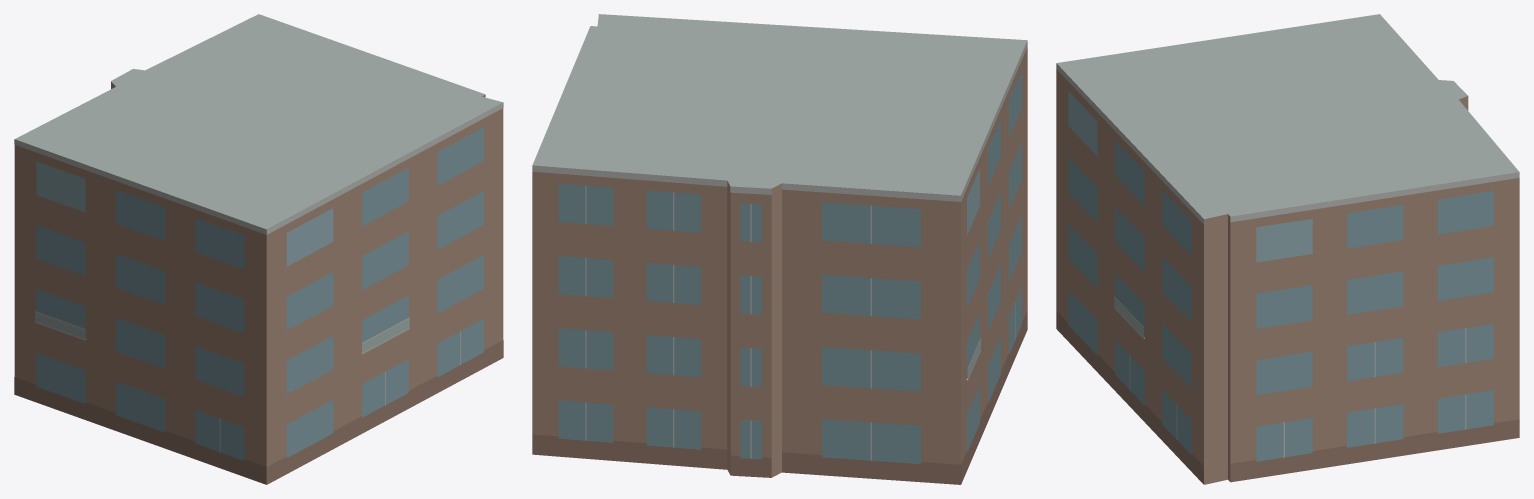
File: survey-upis-32772848.glb
3 views of the same model, side by side, from view 1: azimuth 30°, elevation 25°; view 2: azimuth 150°, elevation 25°; view 3: azimuth 270°, elevation 25° (orthographic). The views are drawn at different scales.
Visible parts, largest first — view 1: survey-upis-32772848.tmp; view 2: survey-upis-32772848.tmp; view 3: survey-upis-32772848.tmp.
Part boxes in pixels (box(x1,y1,x2,y2)): survey-upis-32772848.tmp: box(14, 14, 503, 484); survey-upis-32772848.tmp: box(532, 14, 1027, 484); survey-upis-32772848.tmp: box(1056, 14, 1519, 484).
Bounding box in the file's own units: 18.73 × 11.3 × 17.87.
